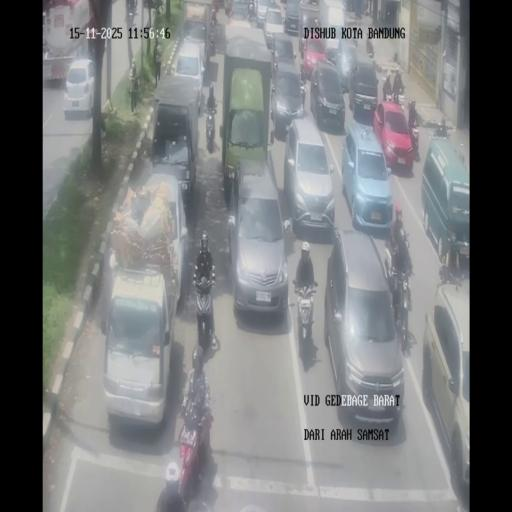car: (325, 230, 403, 424), (102, 266, 176, 426), (422, 278, 470, 500), (229, 158, 288, 317), (132, 173, 190, 306), (284, 113, 335, 240), (421, 139, 469, 262), (342, 121, 392, 234), (151, 96, 197, 201), (309, 61, 345, 133), (270, 65, 305, 139), (173, 40, 207, 114), (348, 54, 378, 120), (64, 59, 96, 119), (300, 4, 321, 50), (262, 6, 285, 46), (283, 0, 302, 35), (326, 42, 340, 68), (224, 0, 234, 17)
truck: (178, 402, 213, 502), (386, 256, 414, 352), (192, 267, 216, 349), (294, 278, 318, 356), (157, 462, 186, 512), (204, 101, 218, 152), (408, 116, 420, 160), (446, 267, 465, 288), (432, 124, 451, 141), (453, 146, 466, 169), (393, 84, 405, 107), (299, 75, 307, 109), (127, 4, 137, 25), (270, 84, 276, 118), (247, 0, 256, 21), (211, 2, 218, 28), (384, 84, 394, 102), (209, 31, 216, 56), (272, 50, 278, 78), (298, 32, 304, 58), (367, 41, 374, 59), (199, 94, 205, 114), (361, 0, 368, 16), (378, 8, 384, 22)
